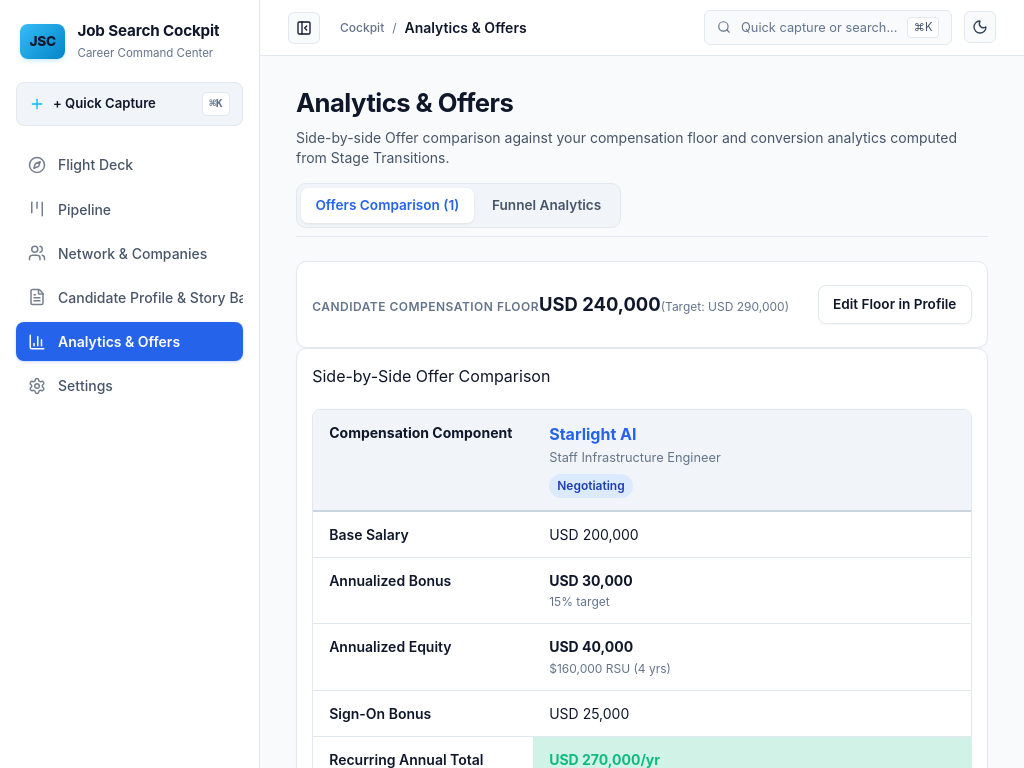
Scenario: Analytics, Offers & Backup/Seeding Workspace Views › renders side-by-side offer comparison and funnel analytics on /analytics
This screenshot has width=1024, height=768.
Expected: the heading "Side-by-Side Offer Comparison" is shown, [312, 366, 550, 386]
Expected: the link "Starlight AI" is shown, [549, 424, 636, 444]
Note: Switch to Funnel Analytics tab
Click the tab "Funnel Analytics": point(547, 206) [478, 188, 616, 223]
(page scrolled)
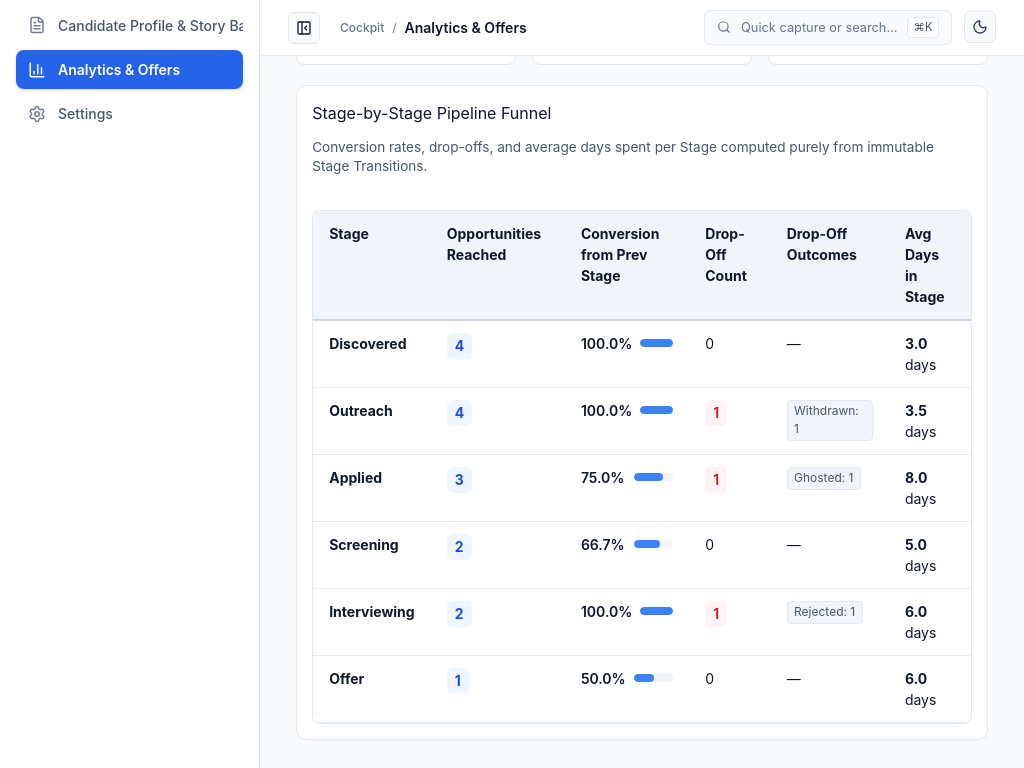
Expected: the heading "Stage-by-Stage Pipeline Funnel" is shown, [312, 103, 551, 123]
Expected: the text "Discovered" is shown, [329, 335, 406, 352]
Expected: the text "66.7%" is shown, [581, 534, 626, 555]
